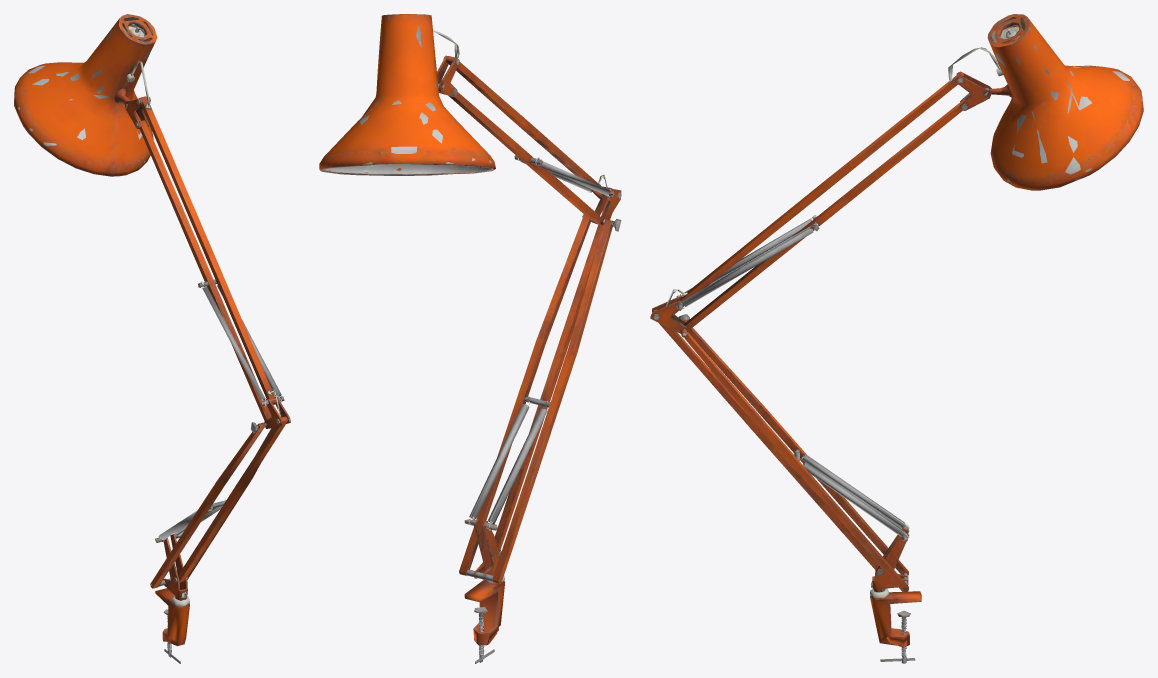
File: desk_lamp.glb
The picture shows the model from 3 angles, left to right: view 1: azimuth 30°, elevation 25°; view 2: azimuth 150°, elevation 25°; view 3: azimuth 270°, elevation 25°; orthographic projection. The views are drawn at different scales.
Parts seen in each view (by area): view 1: desk_lamp_arm_01; view 2: desk_lamp_arm_01; view 3: desk_lamp_arm_01.
Boxes of the visible parts, bbox=[...] form: desk_lamp_arm_01: bbox=[14, 14, 290, 663]; desk_lamp_arm_01: bbox=[319, 14, 621, 663]; desk_lamp_arm_01: bbox=[650, 14, 1143, 663].
Bounding box in the file's own units: 0.2017 × 0.8926 × 0.6132.
Materials: 2 (2 with a texture image).
